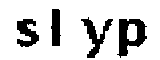l: (47, 6, 68, 51)
p: (116, 15, 149, 60)
s: (14, 16, 41, 50)
y: (76, 16, 113, 58)
